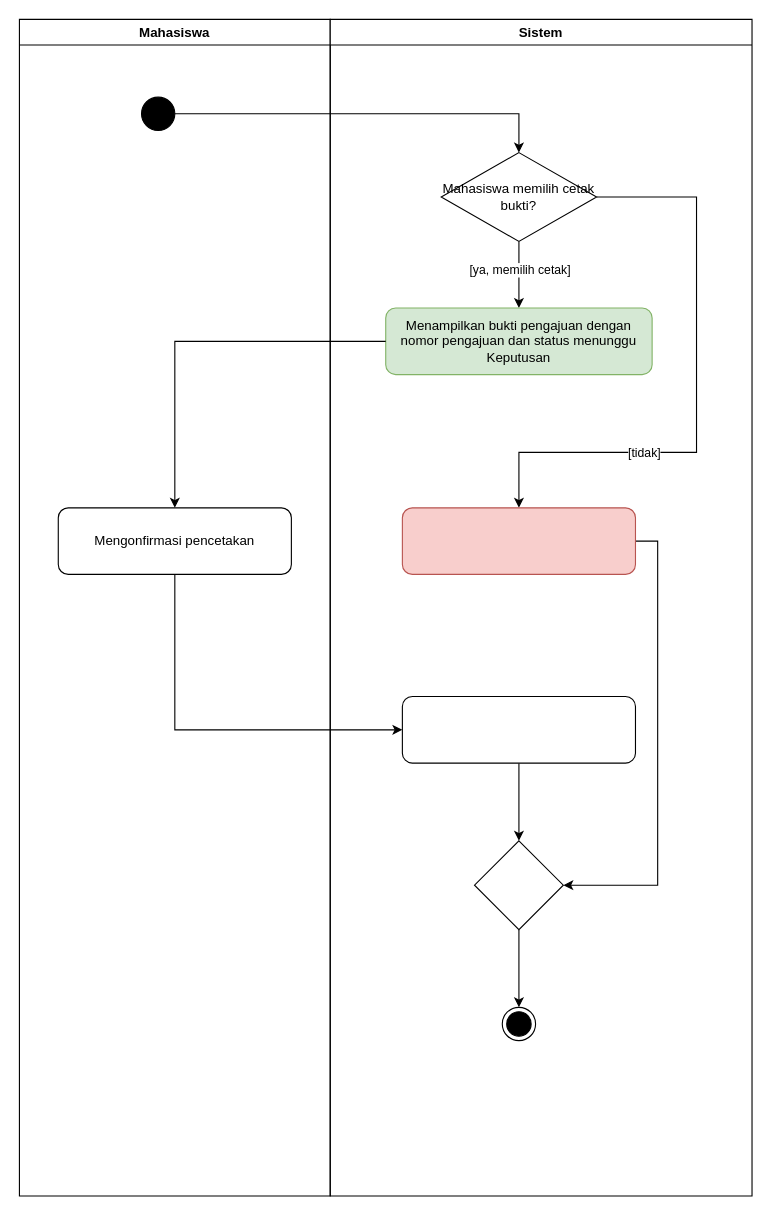
Image size: 771x1215. Some labels were removed from this diagram. The centre of each missing label's shape, as x and y in pixels:
"Mencetak bukti pengajuan" belongs at point (518, 729).
"Menutup Konfirmasi tanpa mencetak bukti dan pengajuan tetap tersimpan" belongs at point (518, 540).
